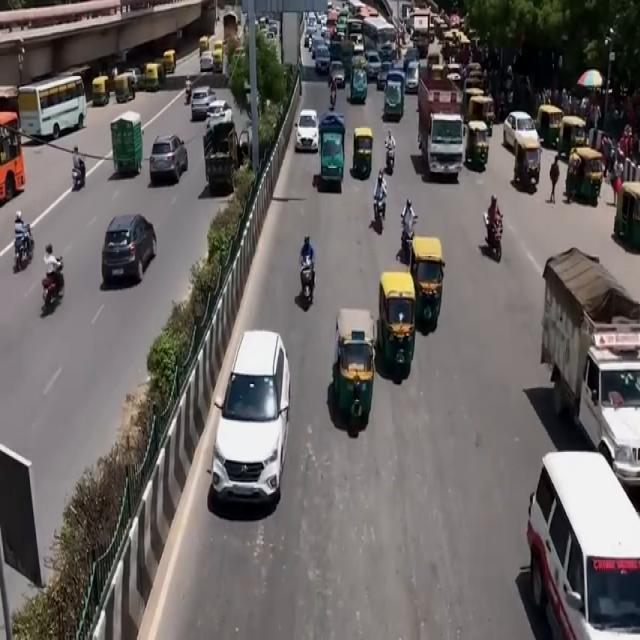BUS: (22, 70, 88, 138)
MOTORCYCLE: (43, 259, 67, 319), (302, 258, 316, 312), (489, 217, 504, 264), (374, 194, 388, 234)
TRUCK: (541, 246, 639, 498), (417, 73, 463, 184), (320, 119, 344, 195)
